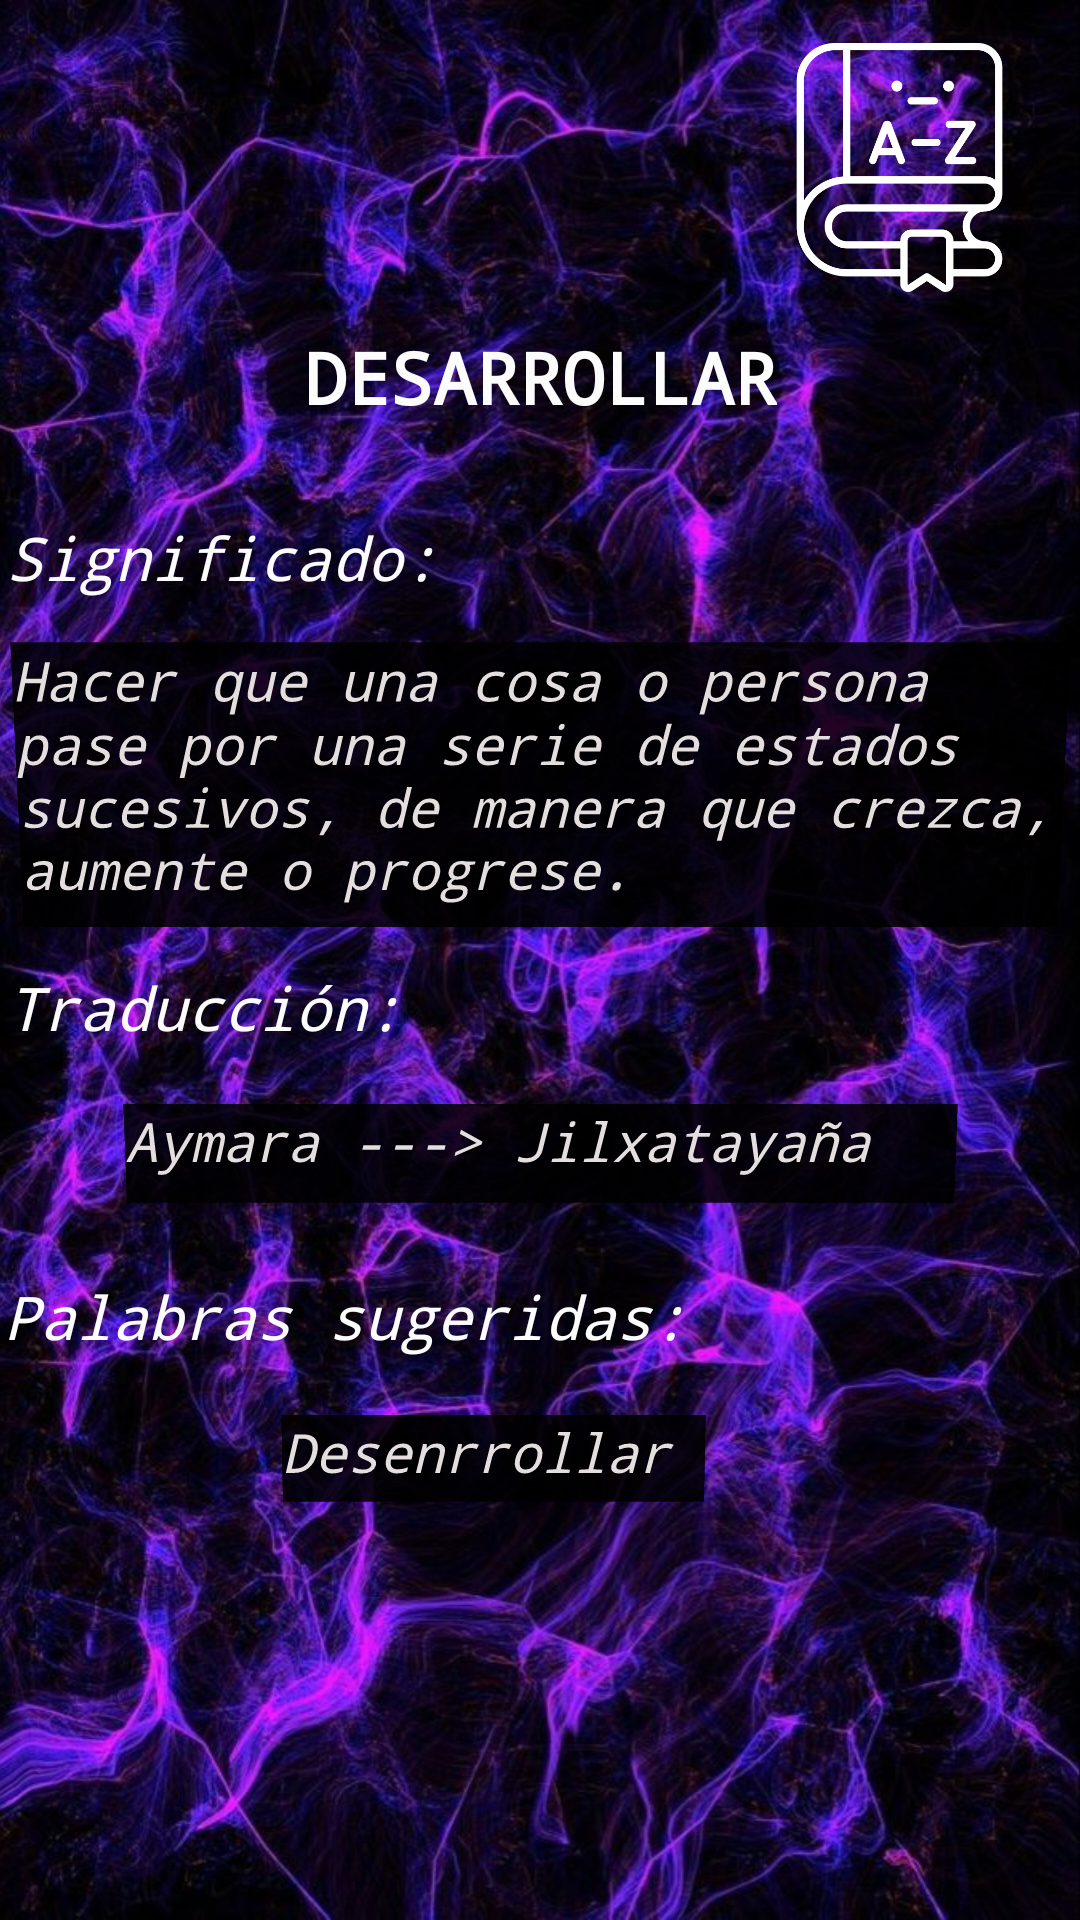

Named icons in this screenshot (1080 × 1920) and their centers, (x,y):
diccionario: (899,167)
